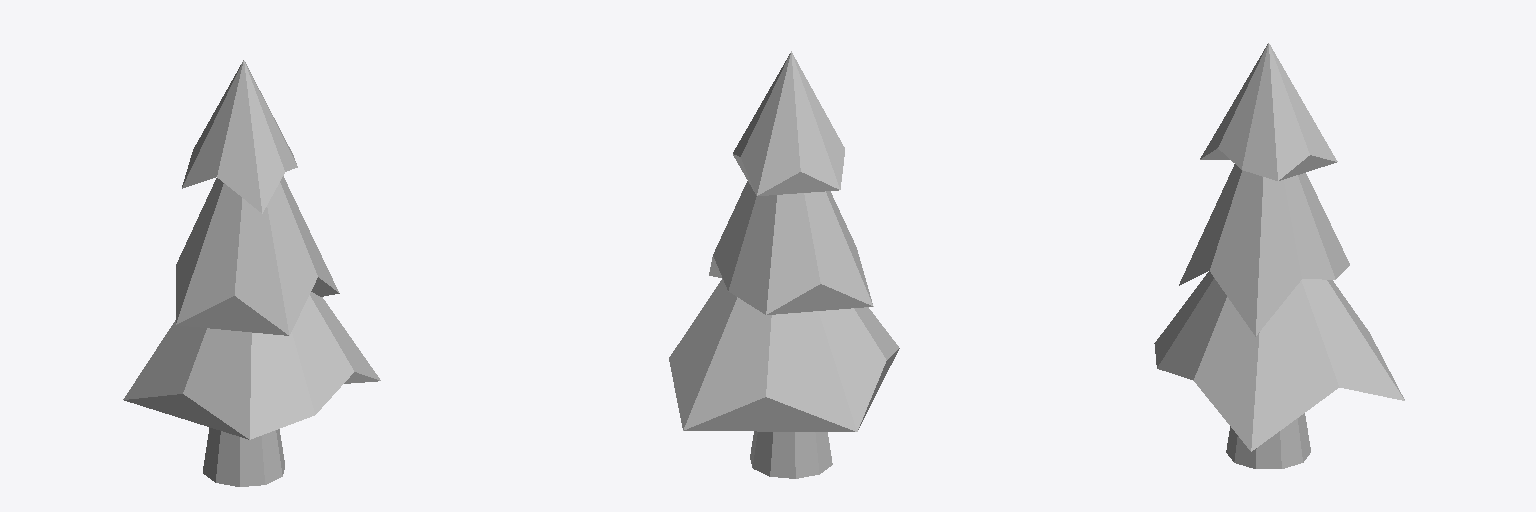
The model's file is pinetree.obj.
The picture shows the model from 3 angles: view 1: azimuth 30°, elevation 25°; view 2: azimuth 150°, elevation 25°; view 3: azimuth 270°, elevation 25°; orthographic projection.
Parts seen in each view (by area): view 1: Cone.002, Cone.001, Cone, Cylinder; view 2: Cone.002, Cone.001, Cone, Cylinder; view 3: Cone.002, Cone.001, Cone, Cylinder.
Part boxes in pixels (x1,y1,x2,y2): Cone.002: (123,292,380,439); Cone.001: (176,176,339,335); Cone: (182,60,297,213); Cylinder: (203,427,284,486); Cone.002: (669,278,899,431); Cone.001: (709,181,873,314); Cone: (733,51,844,195); Cylinder: (750,431,832,478); Cone.002: (1154,271,1404,451); Cone.001: (1179,164,1349,336); Cone: (1200,43,1337,180); Cylinder: (1226,413,1310,468).
Bounding box in the file's own units: 4.75 × 8.36 × 4.64.